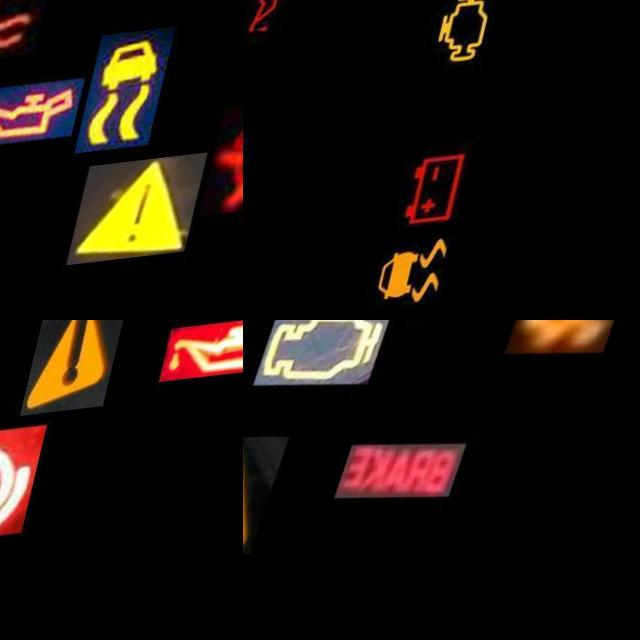Central Warning lamp: (87, 162, 224, 272), (39, 320, 144, 425), (243, 431, 313, 571)
Engine cooling system: (0, 0, 65, 68)
